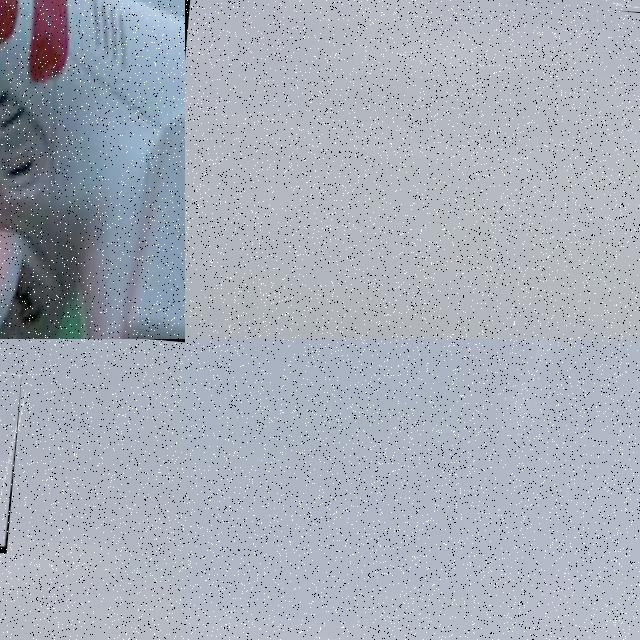drone: (0, 0, 185, 339)
